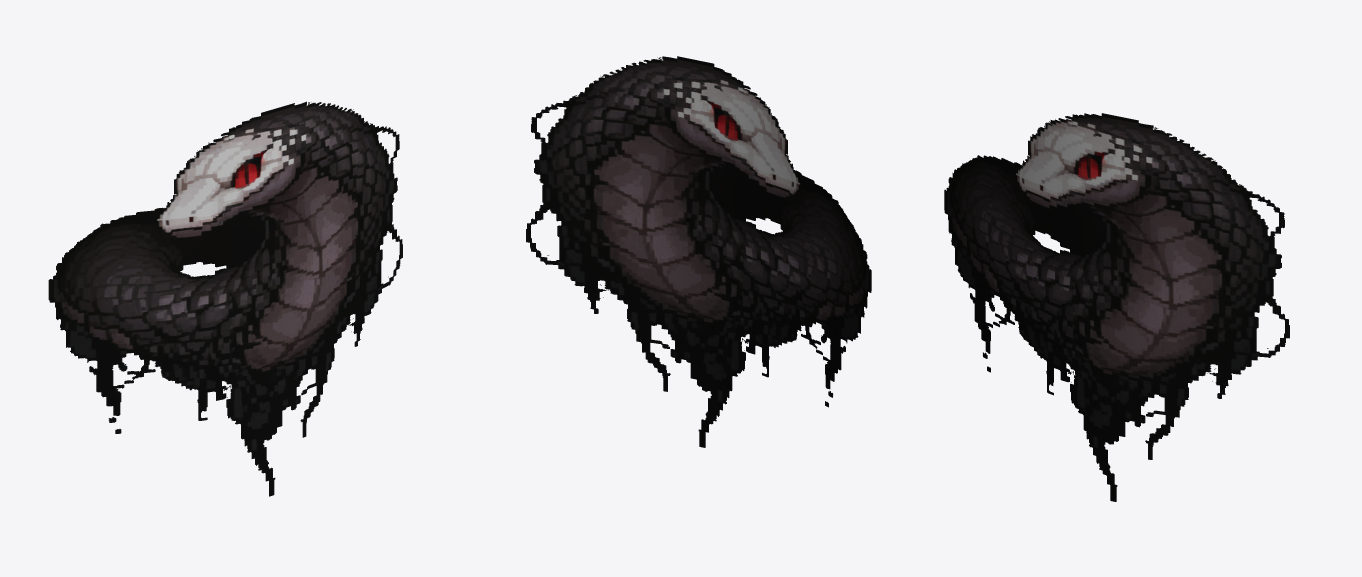
Rendered from Monster.fbx.
3 views of the same model, side by side, from view 1: azimuth 30°, elevation 25°; view 2: azimuth 150°, elevation 25°; view 3: azimuth 330°, elevation 25° (orthographic).
Parts seen in each view (by area): view 1: Plane; view 2: Plane; view 3: Plane.
Boxes of the visible parts, left/top/right/bottom form: Plane: left=48, top=101, right=402, bottom=496; Plane: left=526, top=56, right=871, bottom=447; Plane: left=944, top=113, right=1289, bottom=501.
Size of the model in its own units: 200 by 200 by 27.39.
